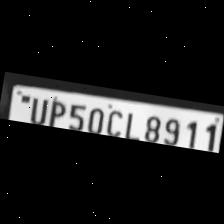0: (84, 102, 106, 133)
1: (196, 118, 218, 150), (180, 117, 202, 148)
5: (64, 99, 86, 130)
8: (139, 111, 163, 142)
9: (159, 114, 183, 146)
C: (104, 105, 128, 136)
L: (120, 108, 141, 139)
P: (44, 96, 67, 127)
U: (24, 92, 48, 124)
